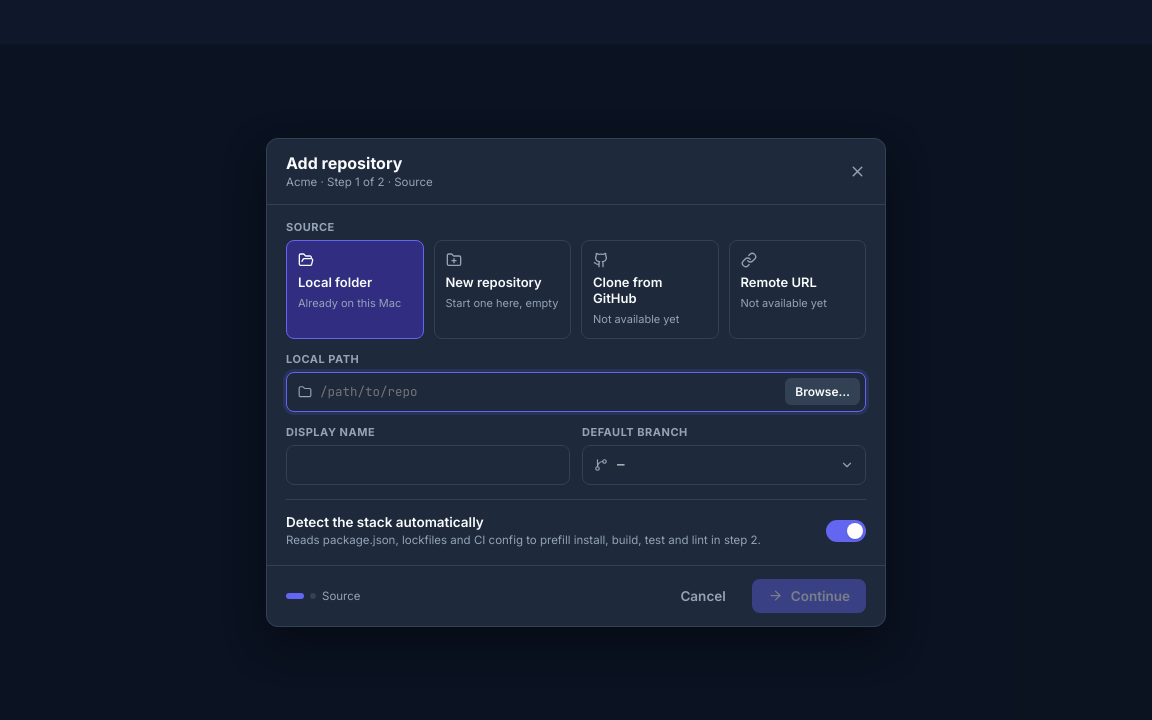
Test: Add repository › New repository › does not offer a remote whose CLI is not ready, and says how to fix it
Step 1. Click the radio button labelled "New repository Start one here, empty" → click(502, 289), box [434,240,571,338]
Wait 250 ms
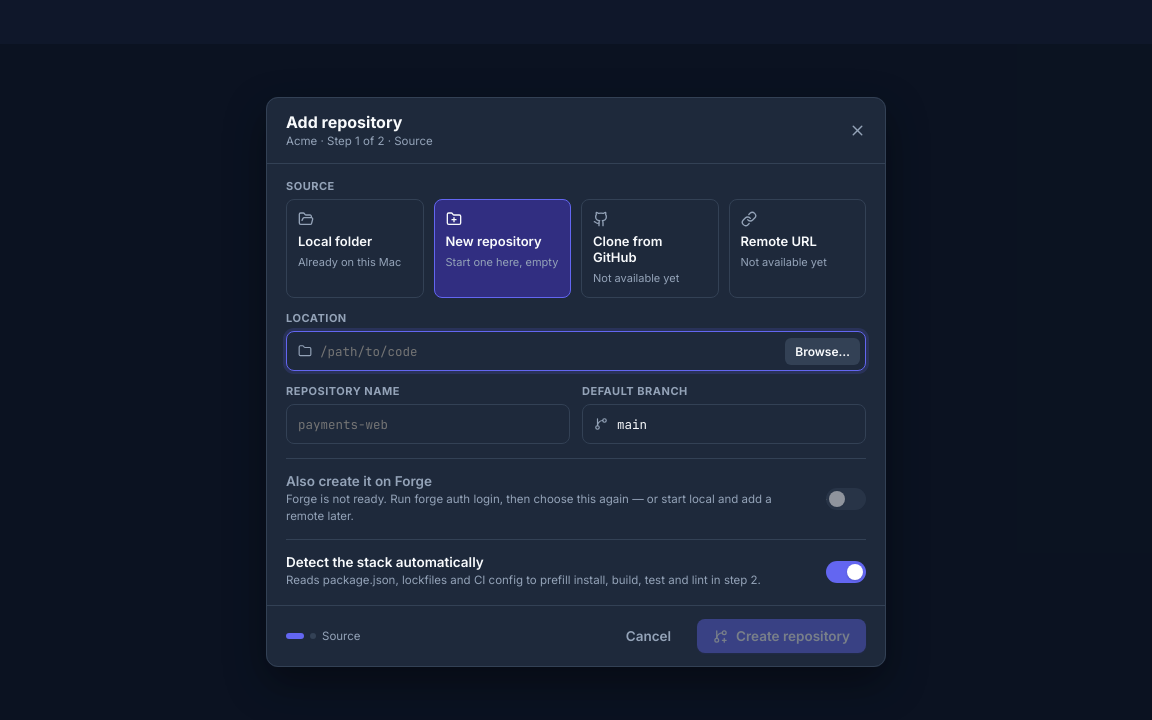
Check: the text "Run forge auth login" is shown, box [286,492,772,523]
Check: the switch named "Also create it on Forge" is disabled, box [826,488,866,510]
